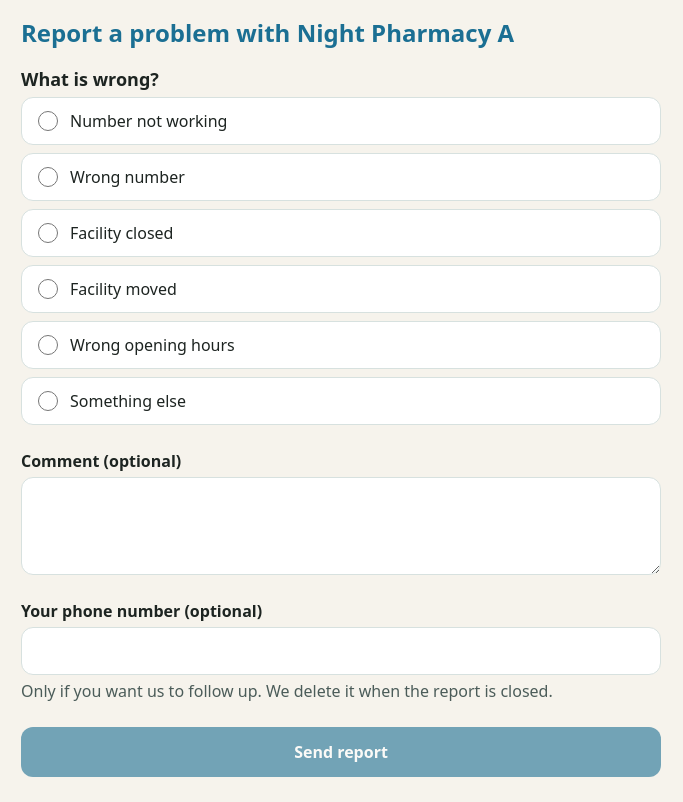
Test: the report page › on 422 asks to check the phone number and keeps what was typed
The width and height of the screenshot is (683, 802).
Check: the heading "Report a problem with Night Pharmacy A" is shown, box [21,16,514,49]
Click the radio button labelled "Facility closed": click(48, 233) [38,223,58,243]
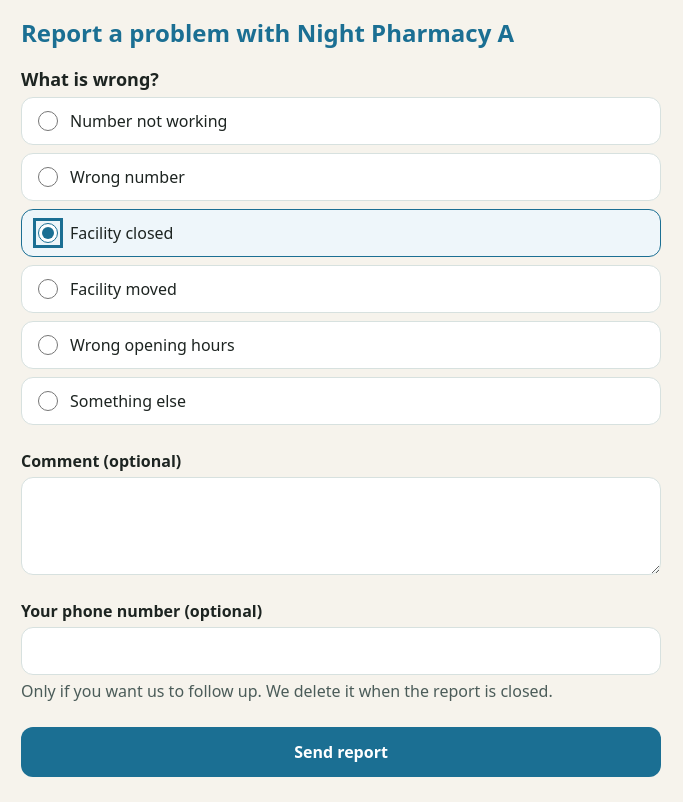
In the field labelled "Your phone number (optional)": (341, 651) [21,627,661,675], type "123"
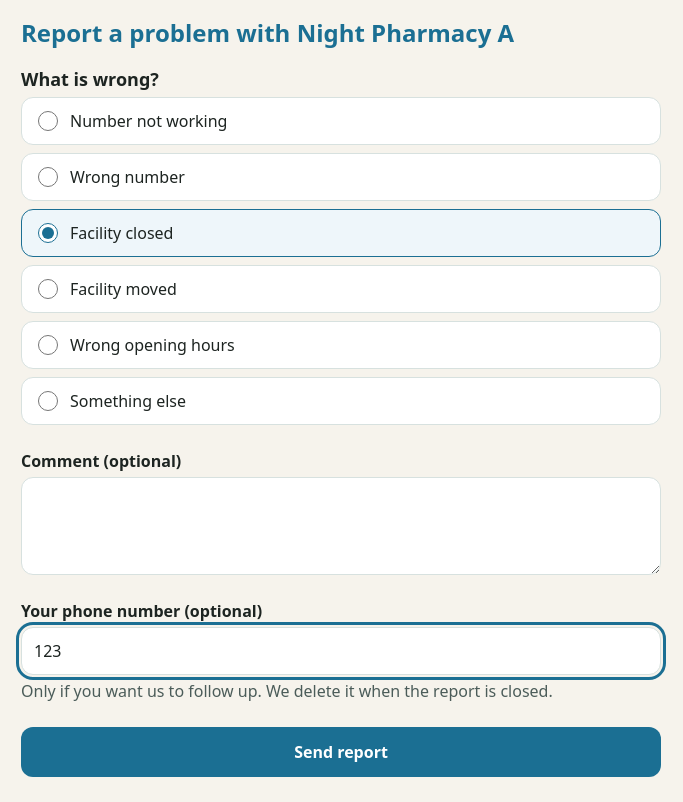
Click the button "Send report": click(341, 752) [21,727,661,777]
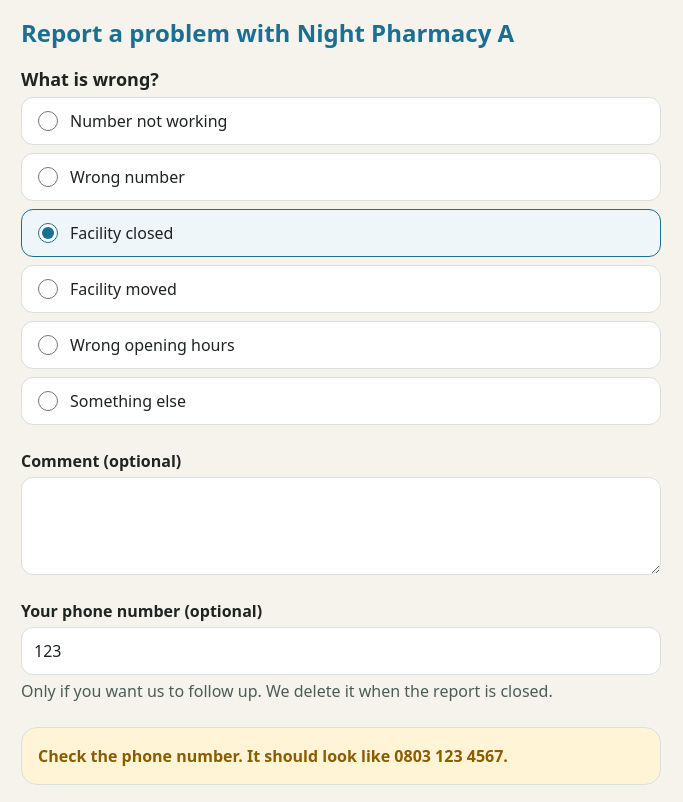
Check: the text "Check the phone number. It should look like 0803 123 4567." is shown, box [21,727,661,785]
